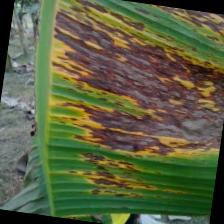sigatoka: (20, 0, 224, 224)
